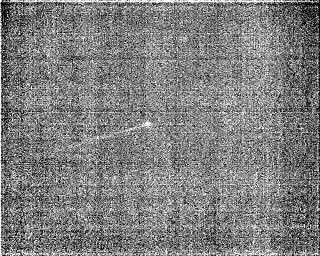AIRPLANE: (67, 120, 153, 148)
